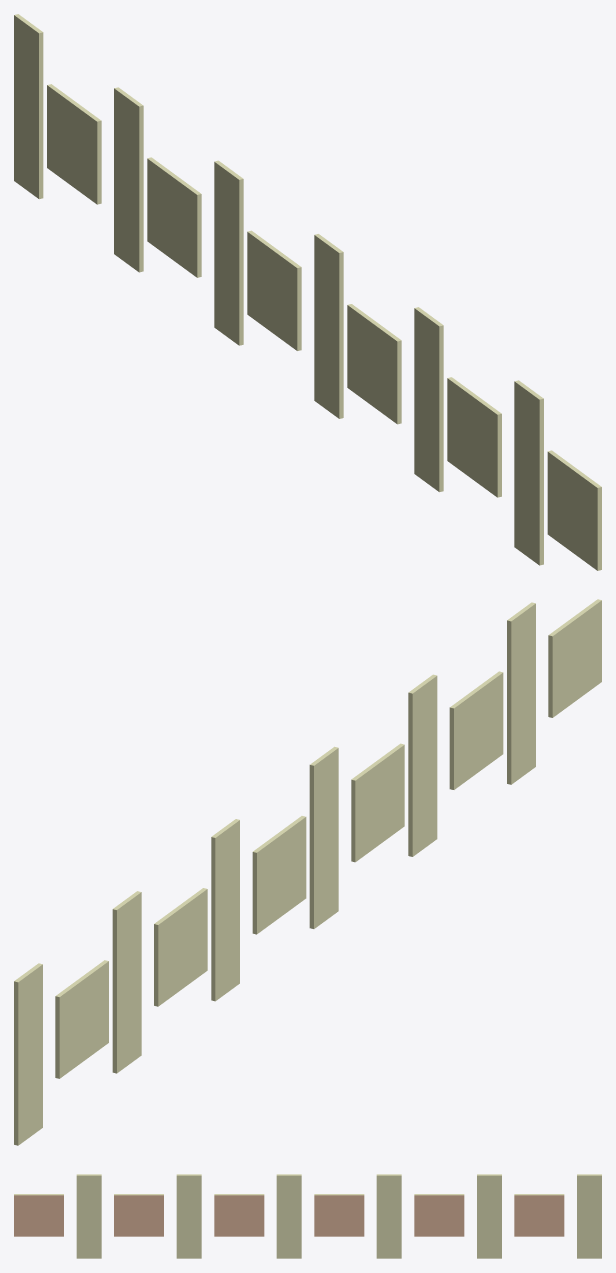
Rendered from Pared.fbx.
3 views of the same model, one above another, from view 1: azimuth 30°, elevation 25°; view 2: azimuth 150°, elevation 25°; view 3: azimuth 270°, elevation 25° (orthographic). The views are drawn at different scales.
Visible parts, largest first — view 1: Cube.041; view 2: Cube.041; view 3: Cube.041.
Boxes of the visible parts, left/top/right/bottom form: Cube.041: left=14, top=14, right=601, bottom=570; Cube.041: left=14, top=599, right=601, bottom=1145; Cube.041: left=14, top=1174, right=601, bottom=1258.
Bounding box in the file's own units: 40.6 × 732 × 4700.
